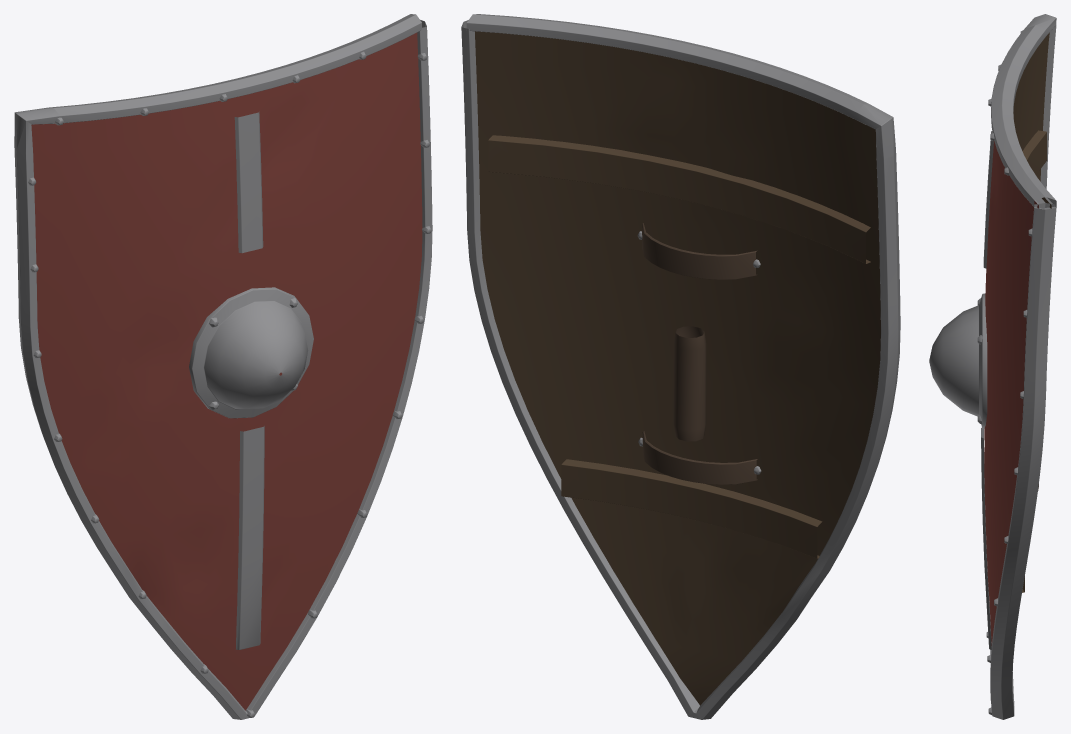
The model's file is gear_shield.glb.
3 views of the same model, side by side, from view 1: azimuth 30°, elevation 25°; view 2: azimuth 150°, elevation 25°; view 3: azimuth 270°, elevation 25° (orthographic). The views are drawn at different scales.
Parts seen in each view (by area): view 1: gear_shield; view 2: gear_shield; view 3: gear_shield.
Part boxes in pixels (bbox=[...]): gear_shield: bbox=[14, 14, 432, 719]; gear_shield: bbox=[461, 14, 900, 719]; gear_shield: bbox=[929, 14, 1056, 719].
Size of the model in its own units: 0.5639 by 0.8402 by 0.1585.
